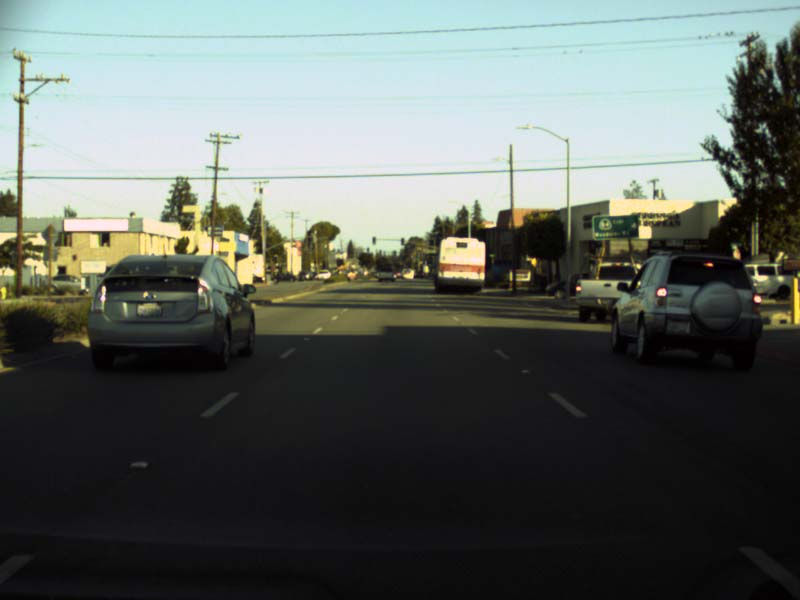Green: (427, 257, 432, 266), (371, 236, 375, 244)
